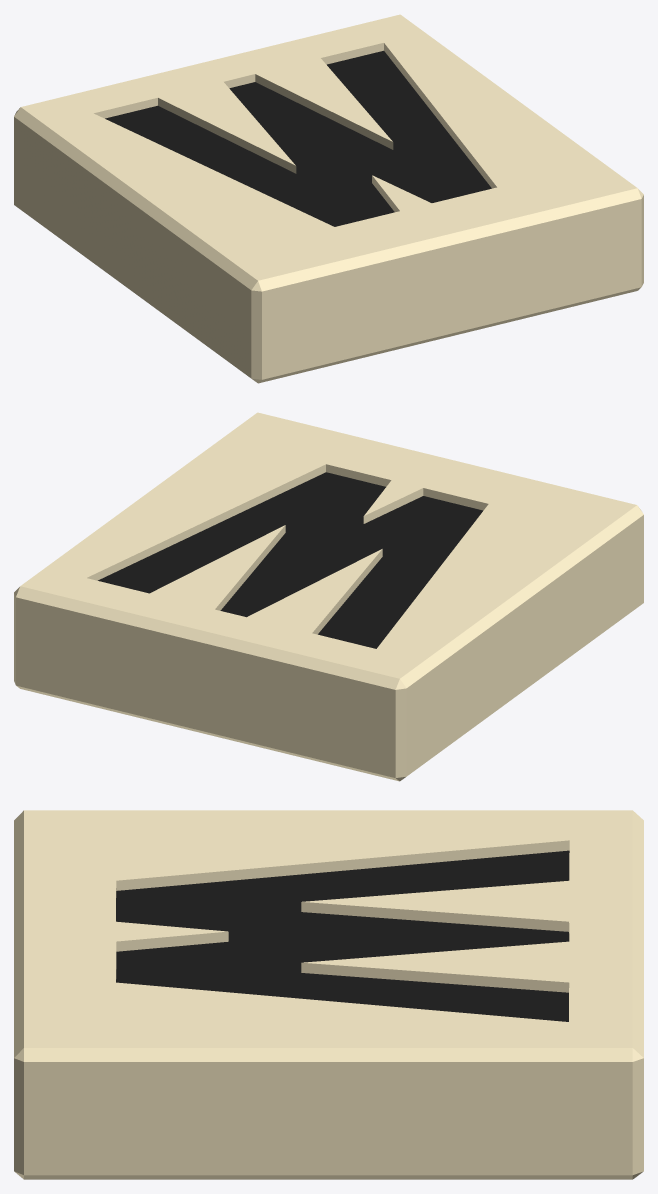
The model's file is Game_Anagram_Tile_W_01.fbx.
3 views of the same model, one above another, from view 1: azimuth 30°, elevation 25°; view 2: azimuth 150°, elevation 25°; view 3: azimuth 270°, elevation 25° (orthographic). The views are drawn at different scales.
Parts seen in each view (by area): view 1: Game_Anagram_Tile_W_01; view 2: Game_Anagram_Tile_W_01; view 3: Game_Anagram_Tile_W_01.
Part boxes in pixels (x1,y1,x2,y2): Game_Anagram_Tile_W_01: [14, 14, 643, 383]; Game_Anagram_Tile_W_01: [14, 412, 643, 781]; Game_Anagram_Tile_W_01: [14, 810, 643, 1179].
Bounding box in the file's own units: 16.4 × 4.1 × 17.77.
